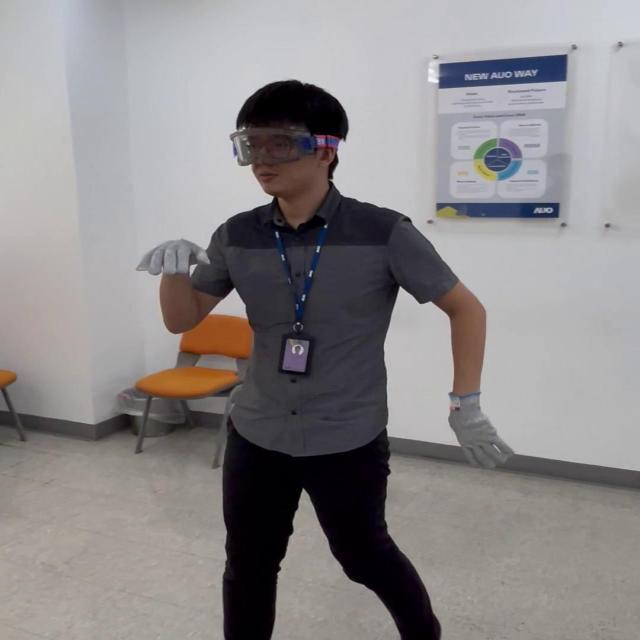gloved_hand: (446, 388, 505, 469), (151, 222, 215, 274)
